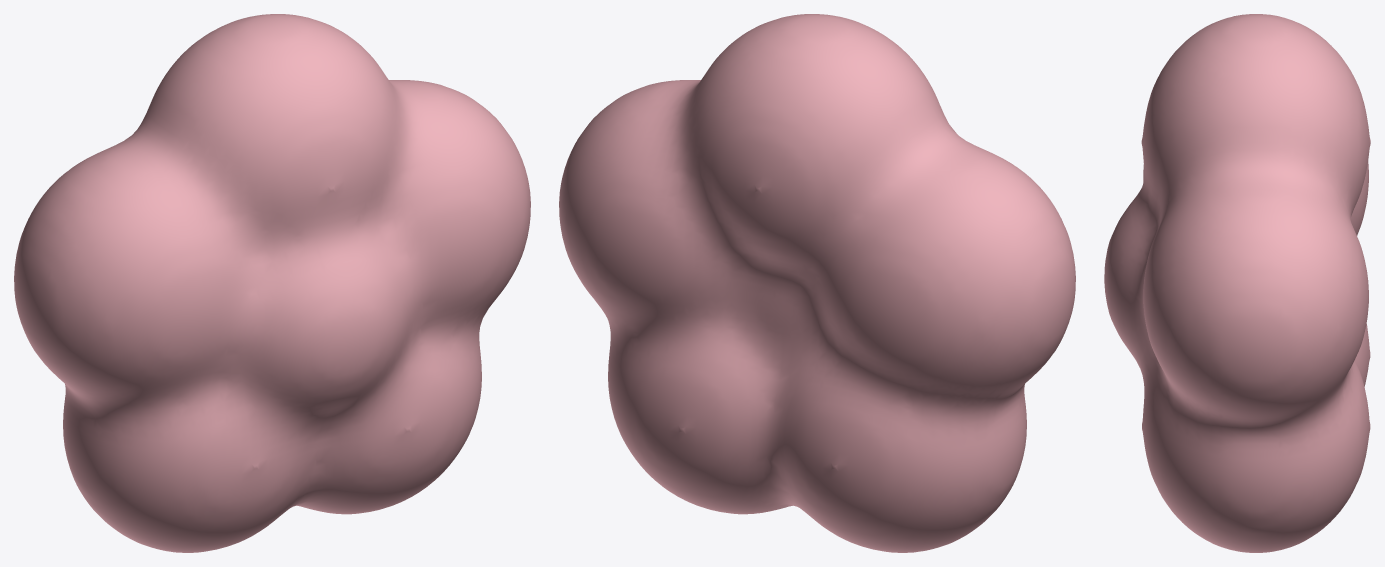
Rendered from squishy-flower.glb.
3 renders of one model, left to right at view 1: azimuth 30°, elevation 25°; view 2: azimuth 150°, elevation 25°; view 3: azimuth 270°, elevation 25°, orthographic. The views are drawn at different scales.
Parts seen in each view (by area): view 1: Squishy_Surface; view 2: Squishy_Surface; view 3: Squishy_Surface.
Part boxes in pixels (box(x1,y1,x2,y2)): Squishy_Surface: box(14, 14, 530, 552); Squishy_Surface: box(559, 14, 1075, 552); Squishy_Surface: box(1104, 14, 1370, 552).
Size of the model in its own units: 2.45 by 2.4 by 1.21.
